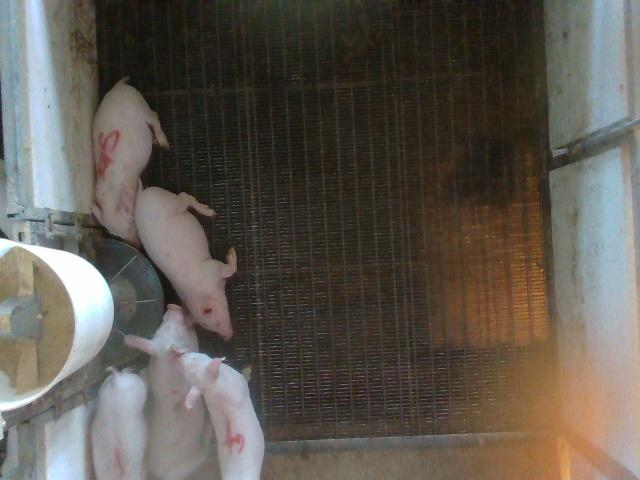pig-1: (91, 369, 146, 479)
pig-3: (124, 304, 211, 479)
pig-4: (182, 352, 264, 478)
pig-5: (91, 78, 169, 247)
